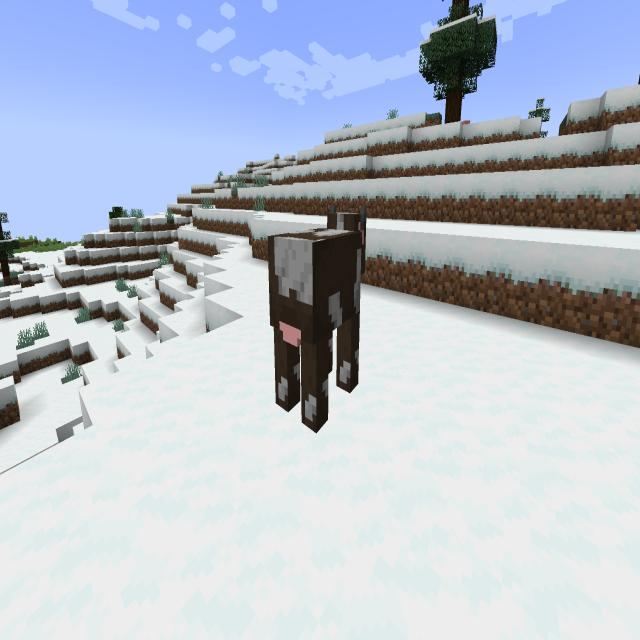cow: (258, 192, 378, 448)
